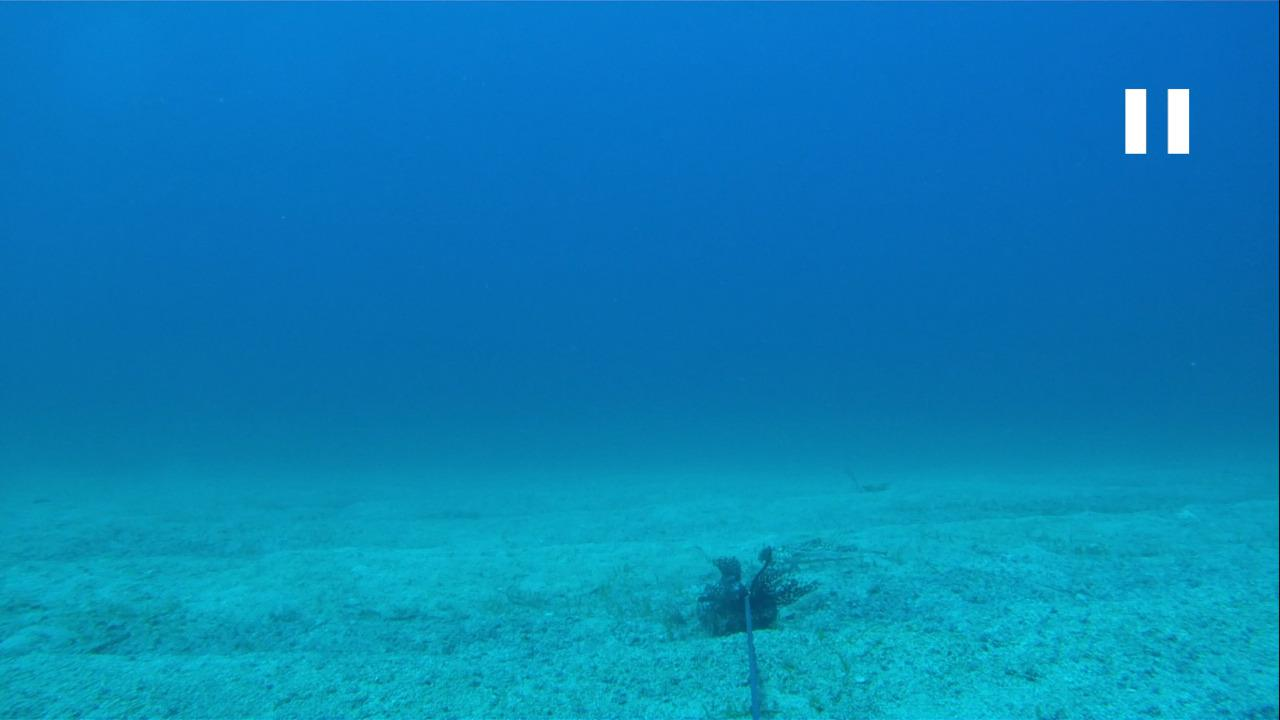dactylopterus: (755, 534, 908, 578)
